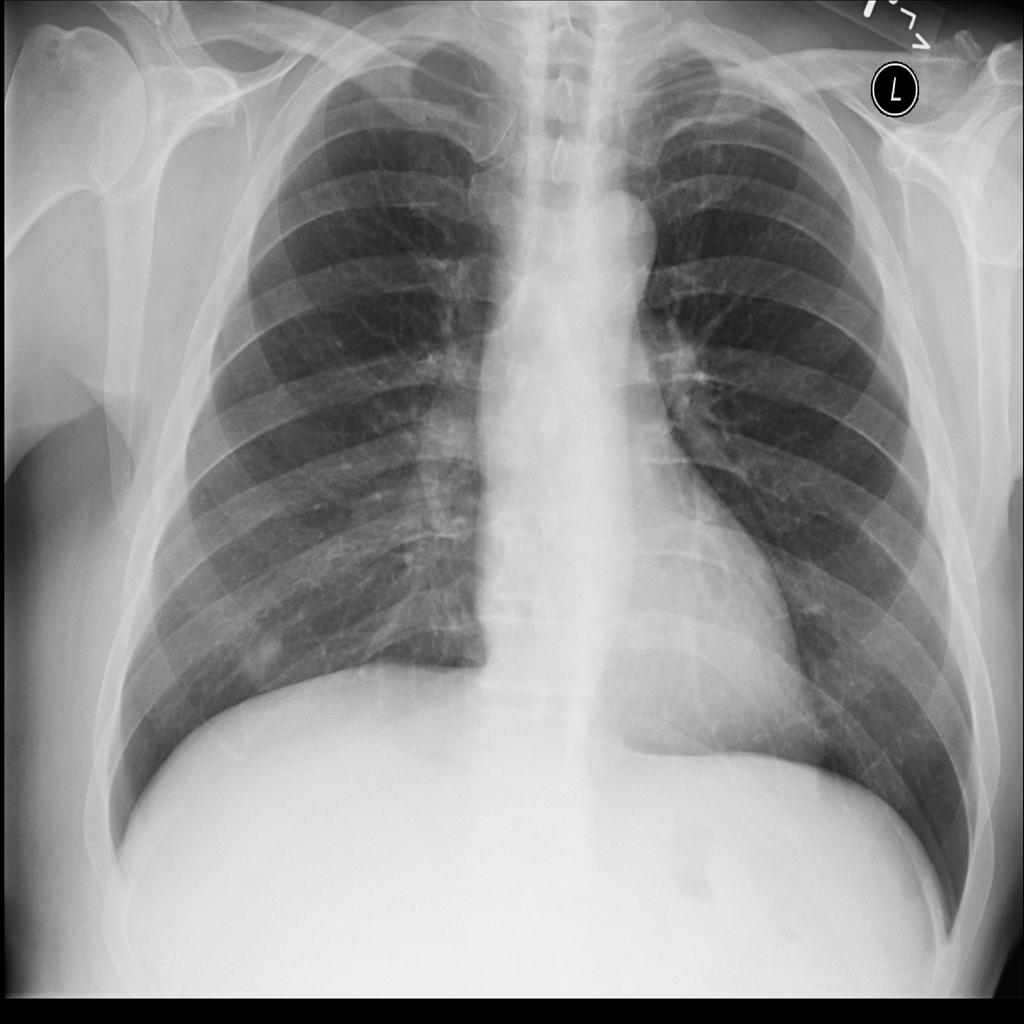nodule: (230, 616, 301, 687)
